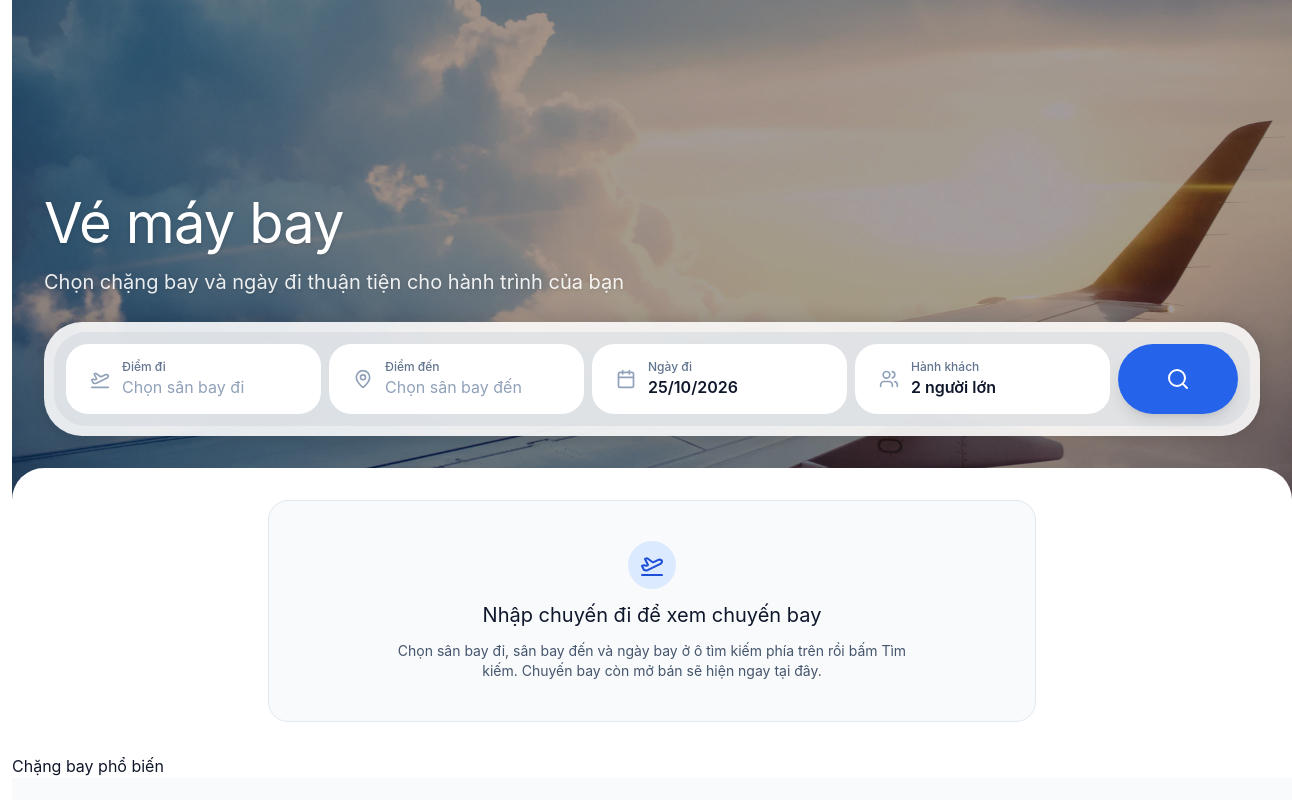
FlightsPage › pressing Tìm with nothing chosen names what is missing and does not leave the page
Step 1. Click the button named "Tìm kiếm" → x=1178, y=379, box 1118,344 -> 1238,414
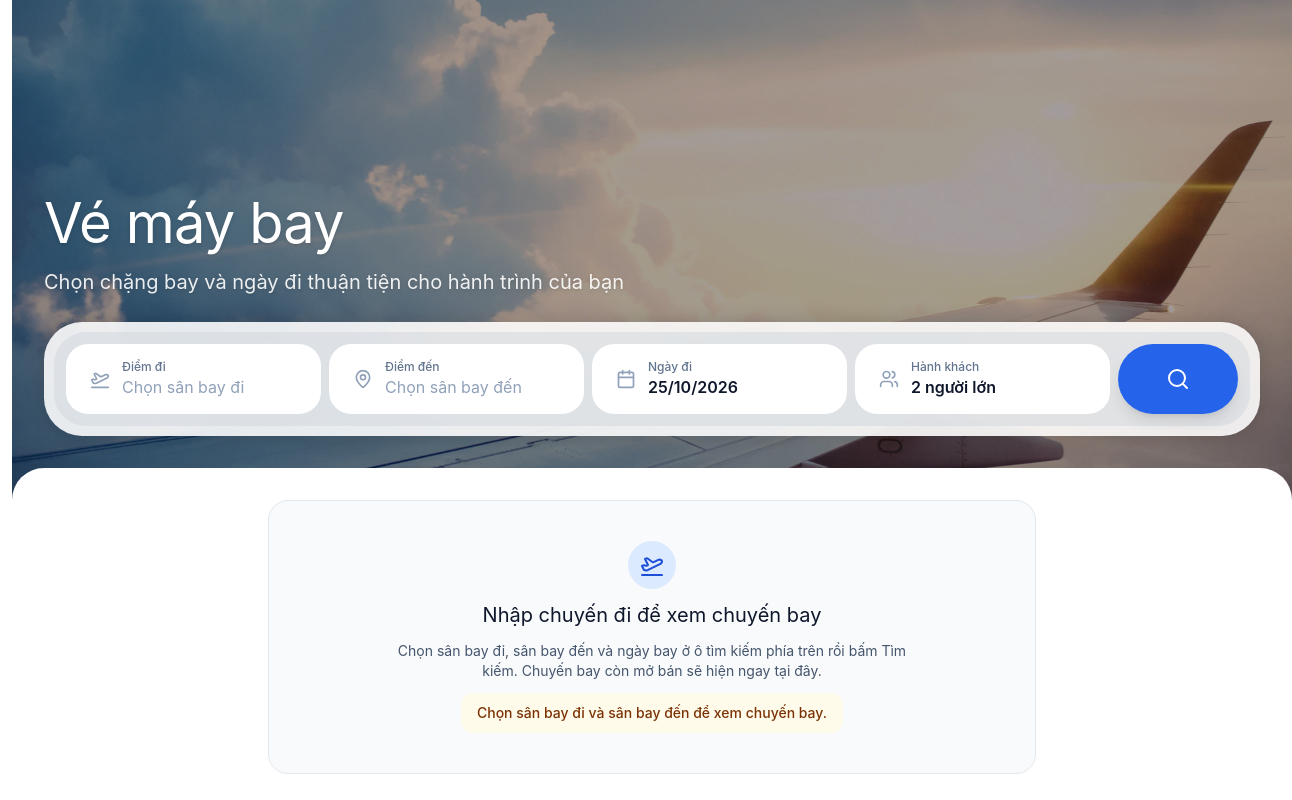
Expected: the message reads "Chọn sân bay đi và sân bay đến để xem chuyến bay.", 477,704 -> 827,721
Step 2. Type "Hà Nội" into the dropdown labelled "Điểm đi" → x=210, y=387, box 122,375 -> 297,399
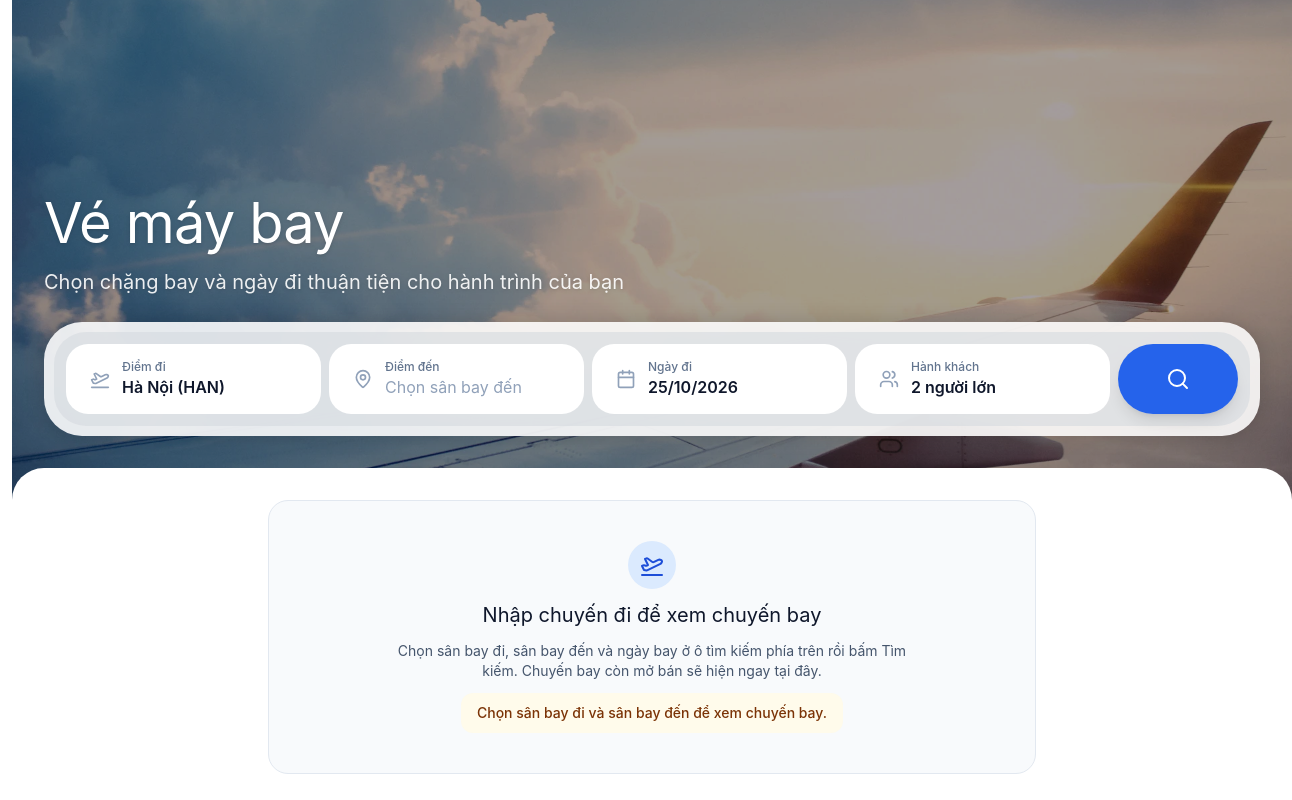
Step 3. Click the button named "Tìm kiếm" → x=1178, y=379, box 1118,344 -> 1238,414
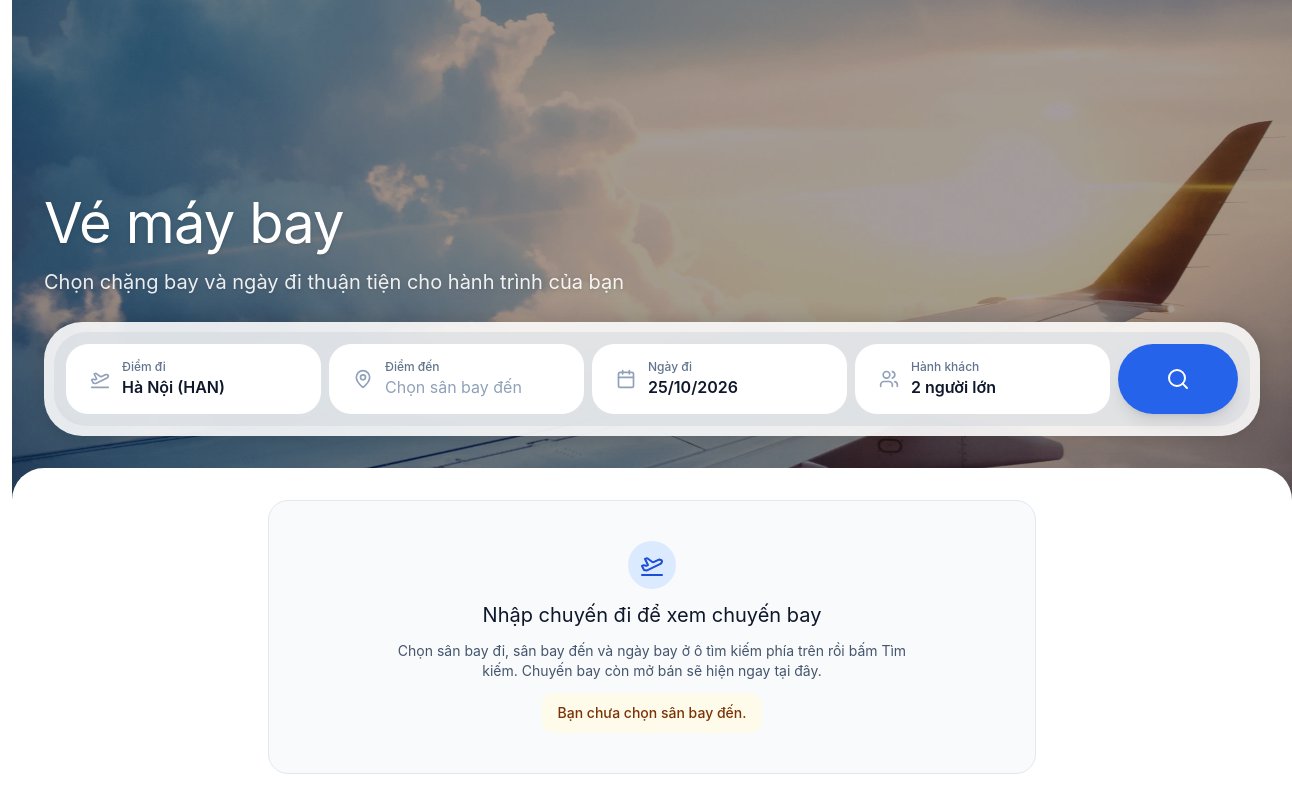
Expected: the message reads "Bạn chưa chọn sân bay đến.", 558,704 -> 746,721
